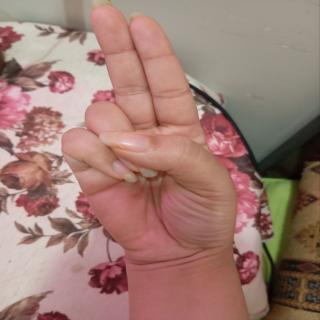TA: (53, 0, 244, 275)
